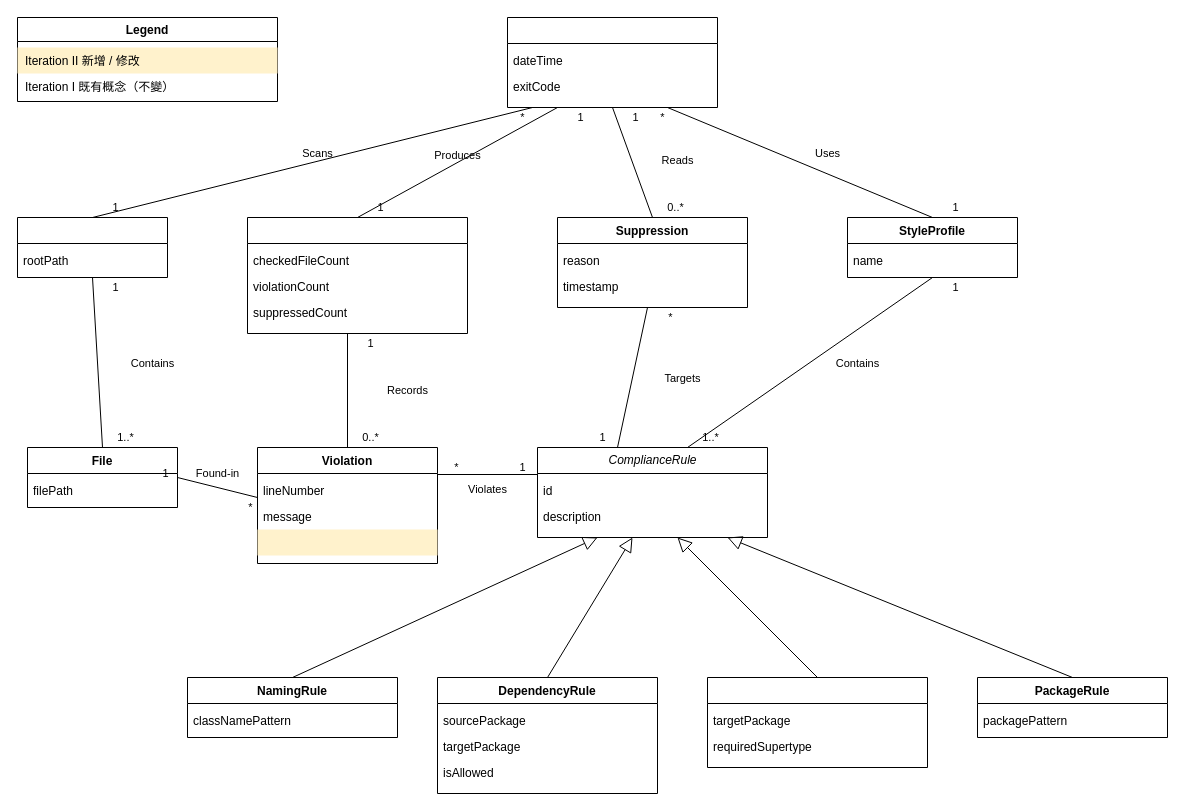
This 1185x811 diagram has some shape labels left out. Here are the shapes that lost their labels. From the top down, the box of each, then its label:
(506, 16, 718, 108): ComplianceCheck
(16, 216, 168, 278): Project
(246, 216, 468, 334): ViolationReport
(257, 529, 437, 555): suggestion [0..1]
(706, 676, 928, 768): SupertypeRule
